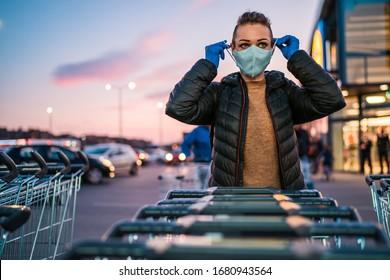gloves: (204, 40, 231, 69), (274, 34, 300, 60)
